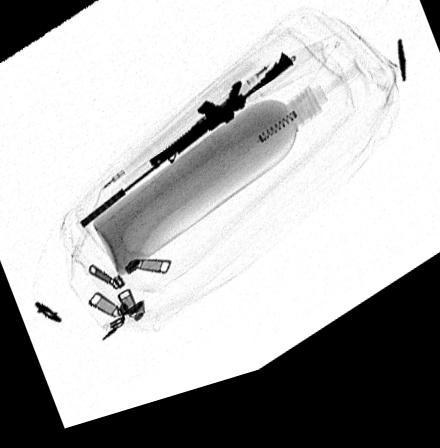Gun: (80, 70, 294, 233)
